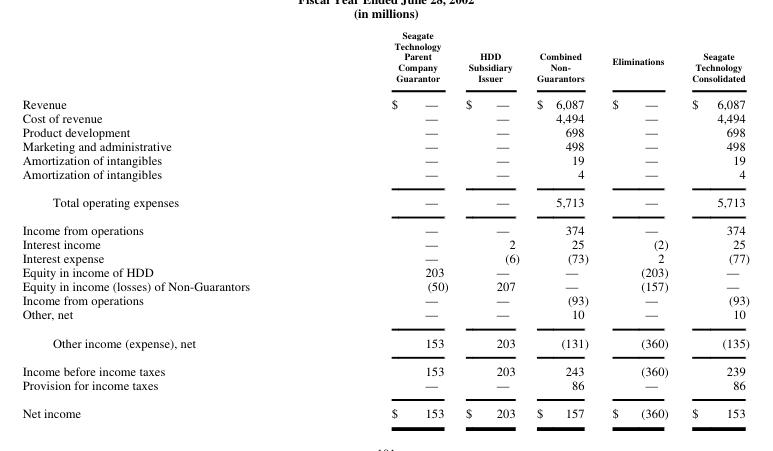table: (21, 28, 748, 420)
table column: (21, 28, 319, 420), (319, 28, 456, 420), (599, 28, 679, 420), (527, 28, 599, 420), (456, 28, 527, 420), (679, 28, 748, 420)
table column header: (21, 28, 748, 89)
table row: (21, 28, 748, 89), (21, 187, 748, 215), (21, 327, 748, 355), (21, 397, 748, 420), (21, 89, 748, 110), (21, 166, 748, 187), (21, 215, 748, 236), (21, 306, 748, 327), (21, 355, 748, 376), (21, 376, 748, 397), (21, 110, 748, 124), (21, 124, 748, 138), (21, 138, 748, 152), (21, 152, 748, 166), (21, 236, 748, 250), (21, 250, 748, 264), (21, 264, 748, 278), (21, 278, 748, 292), (21, 292, 748, 306)
